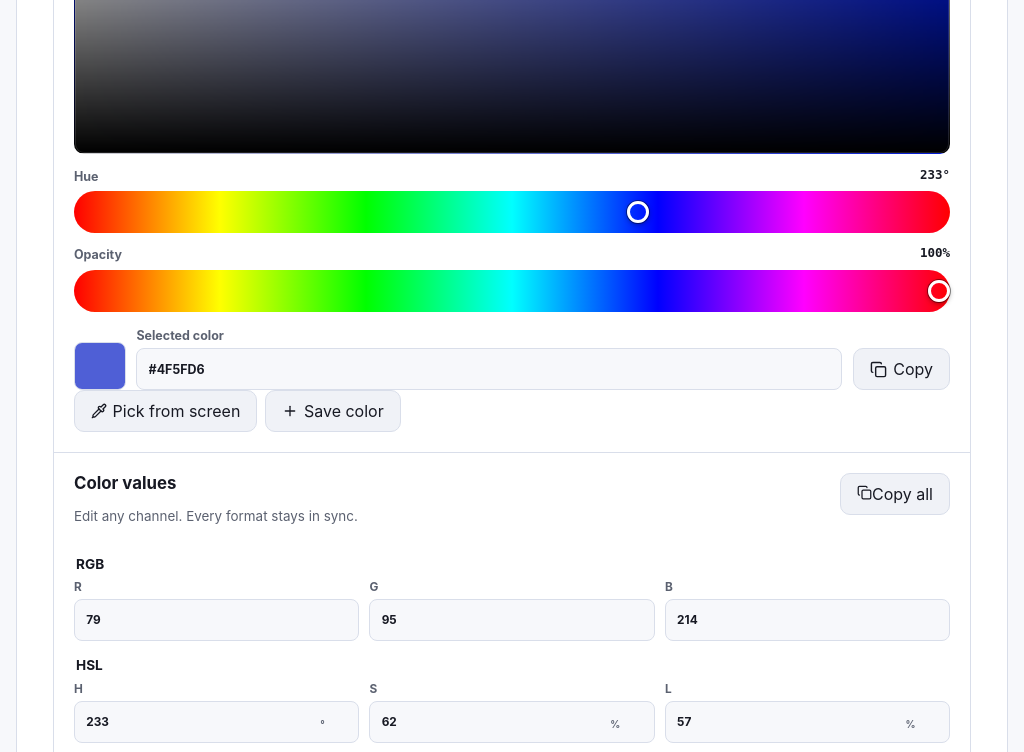
Test: Color Picker & Converter › keeps editable color formats synchronized
(page scrolled)
Replace the text in the field named "HEX" with "#ff0000" at [489, 369], box [136,348,842,390]
(page scrolled)
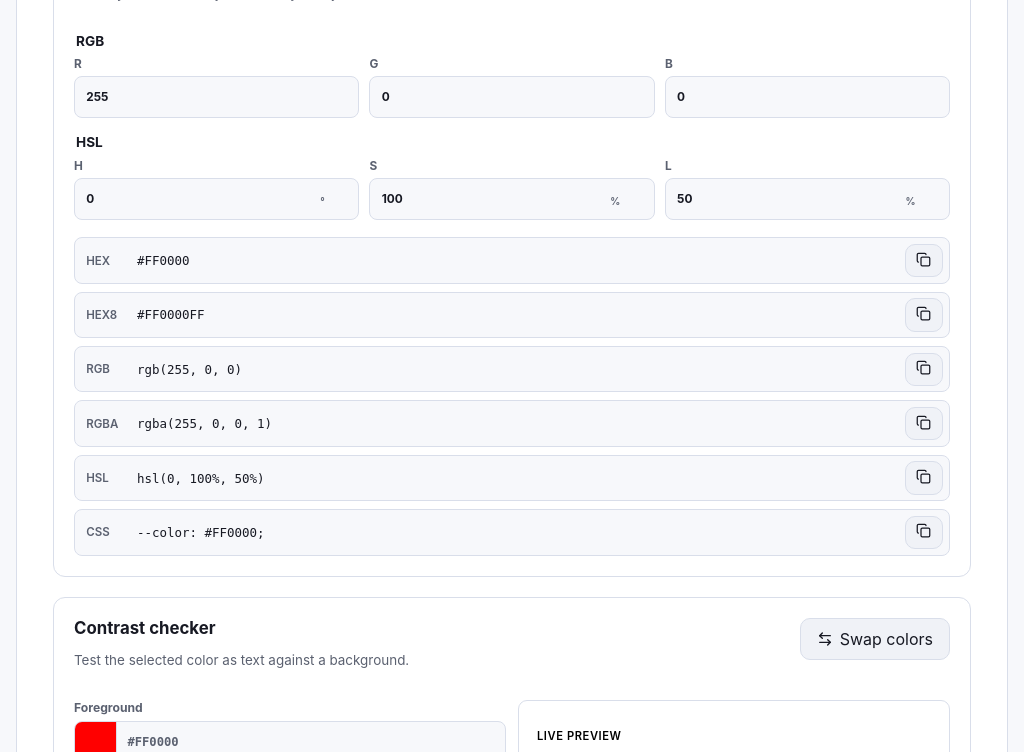
Result: the number field labelled "R" holds "255" at [74,76,359,118]
Result: the number field labelled "G" holds "0" at [370,76,655,118]
Result: the number field labelled "B" holds "0" at [665,76,950,118]
